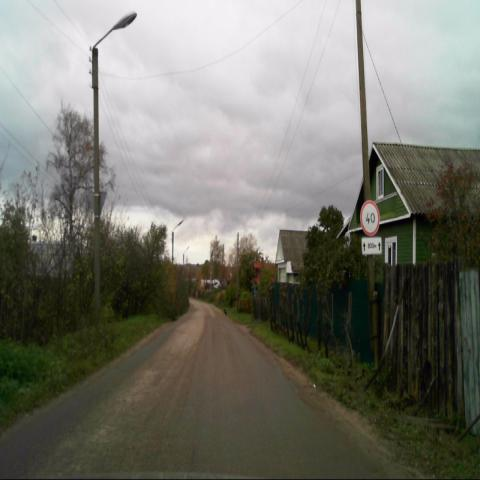3_24: (360, 199, 380, 237)
